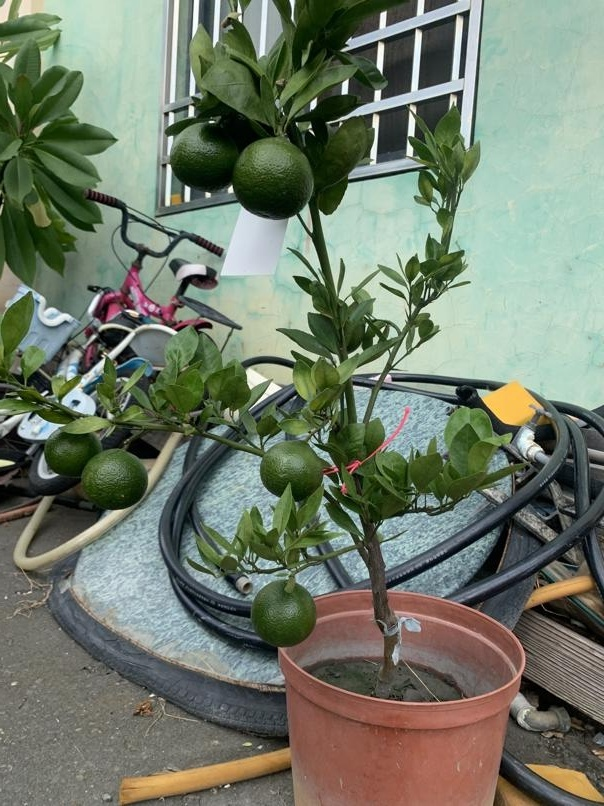Tangerine: (232, 134, 315, 221), (248, 575, 318, 648), (170, 121, 239, 193), (80, 449, 148, 511), (261, 435, 323, 498)
